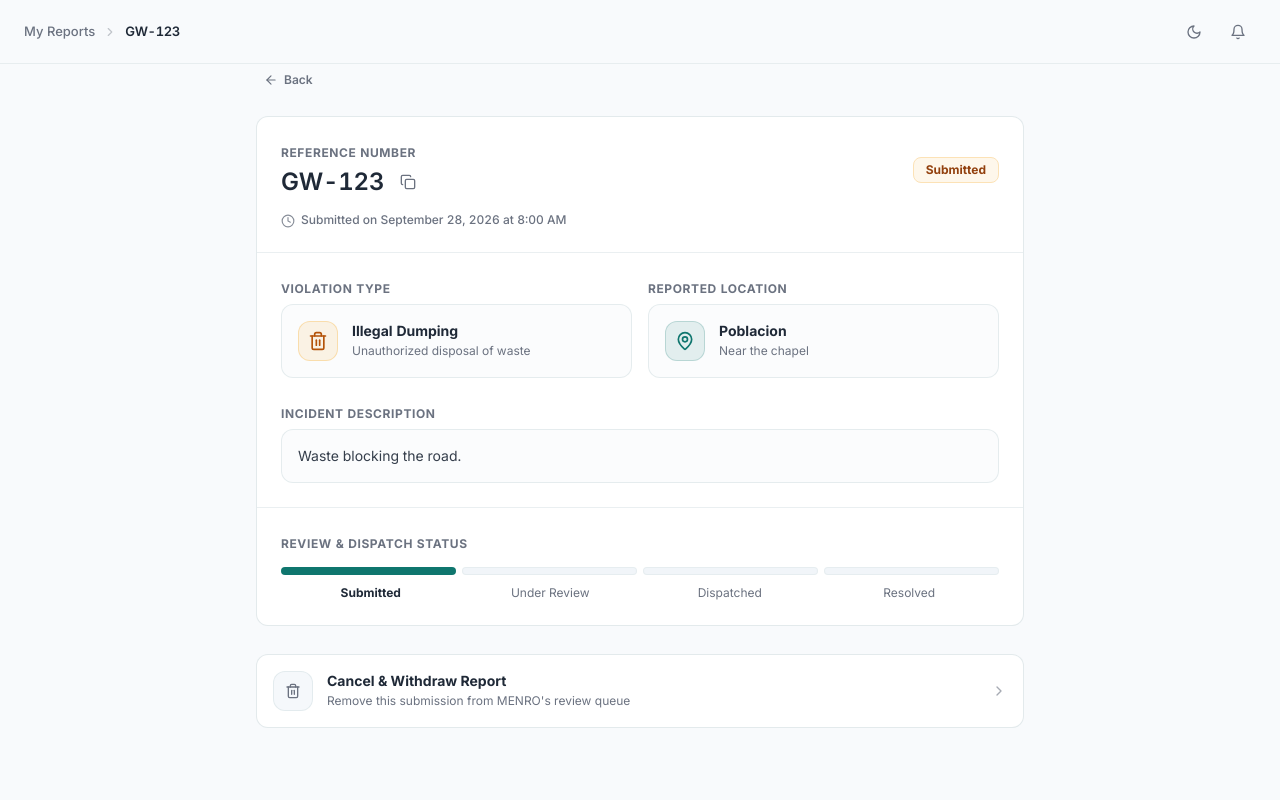
returns with the shared Back button and preserves the report list filter
Click the button with aria-label "Back to My Reports" at {"x": 288, "y": 80}, box [256,64,321,96]
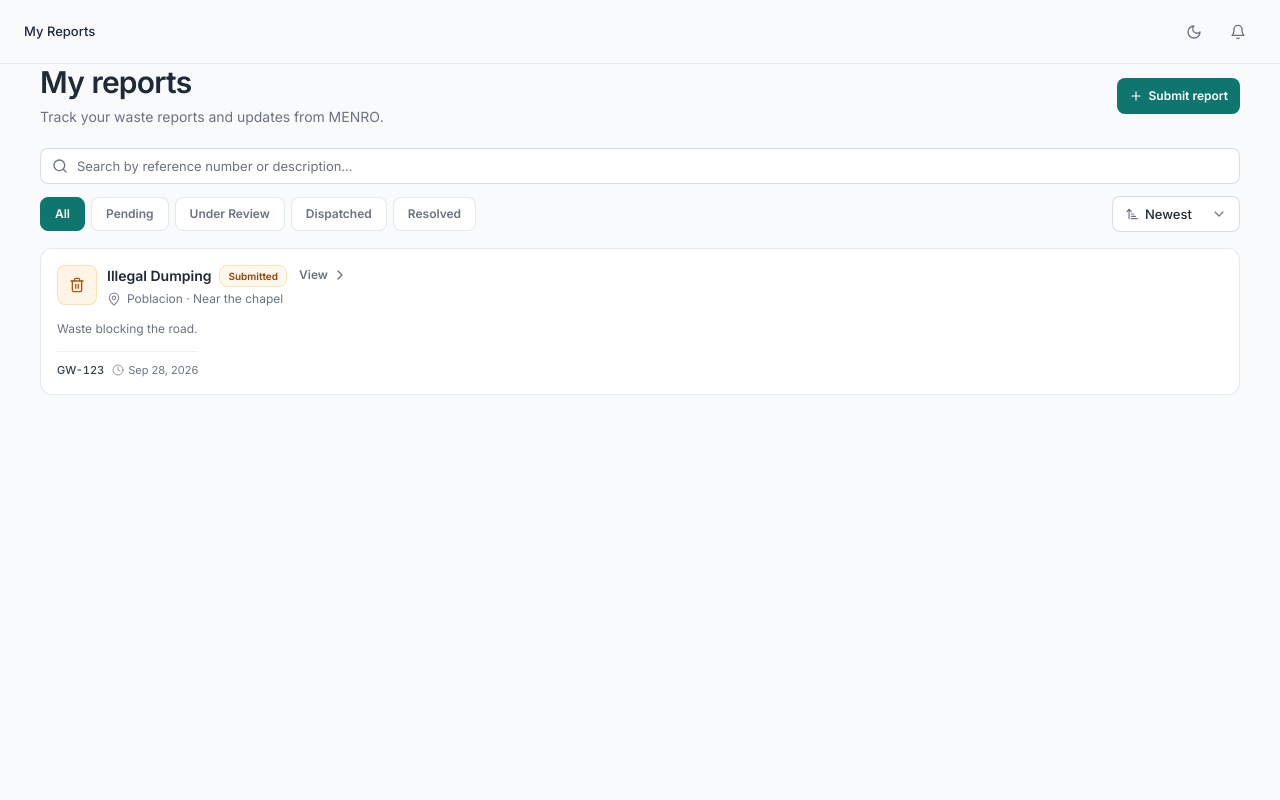
Click the button "Pending" at {"x": 130, "y": 214}, box [91,197,169,231]
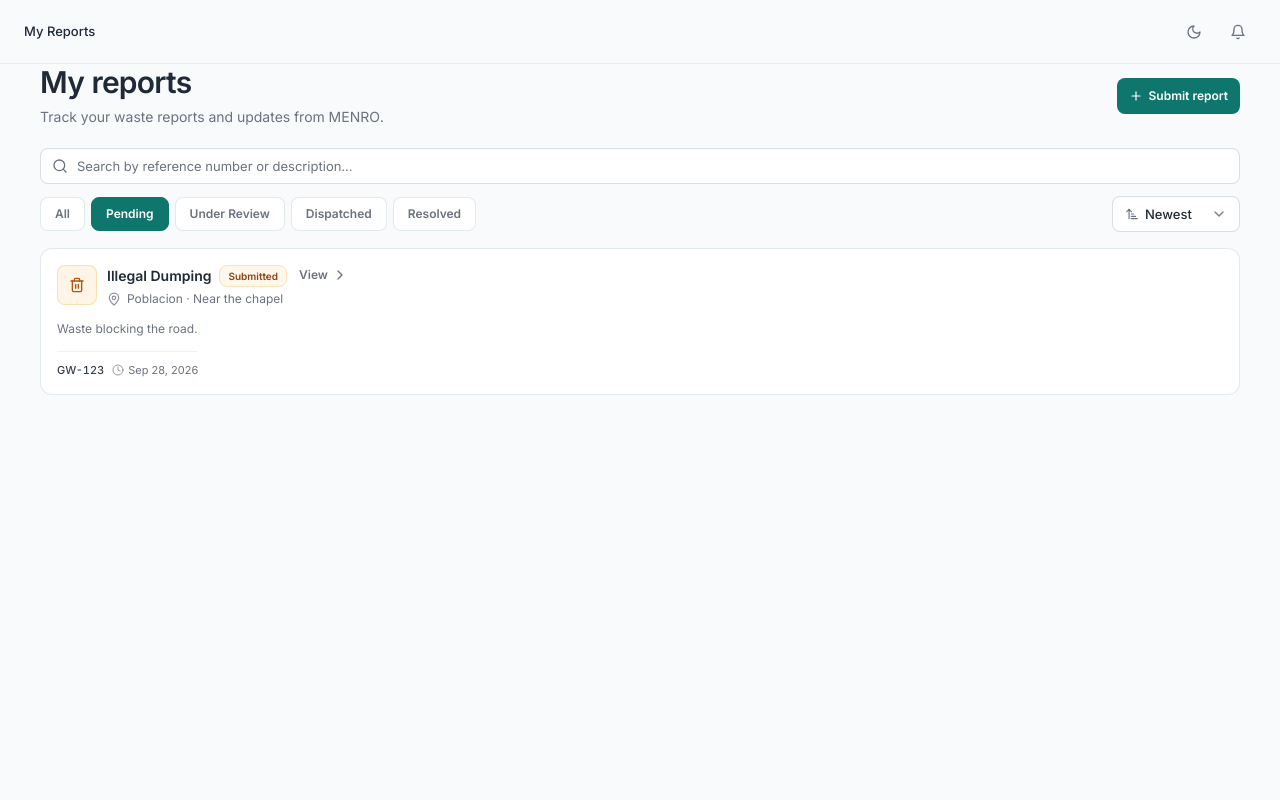
Click the button with aria-label "View report GW-123" at {"x": 640, "y": 322}, box [40,248,1240,395]
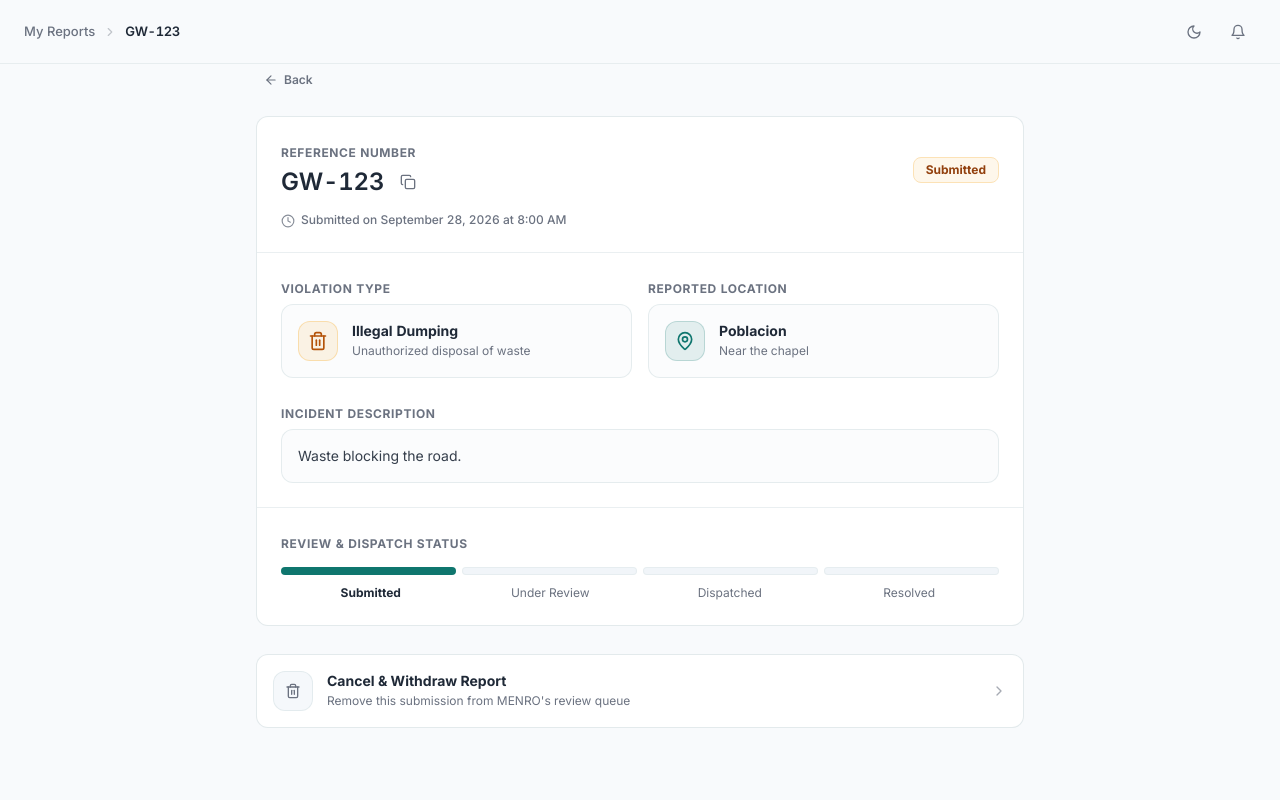
Now the text "GW-123" is shown, box [125,22,180,41]
Click the button with aria-label "Back to My Reports" at {"x": 288, "y": 80}, box [256,64,321,96]
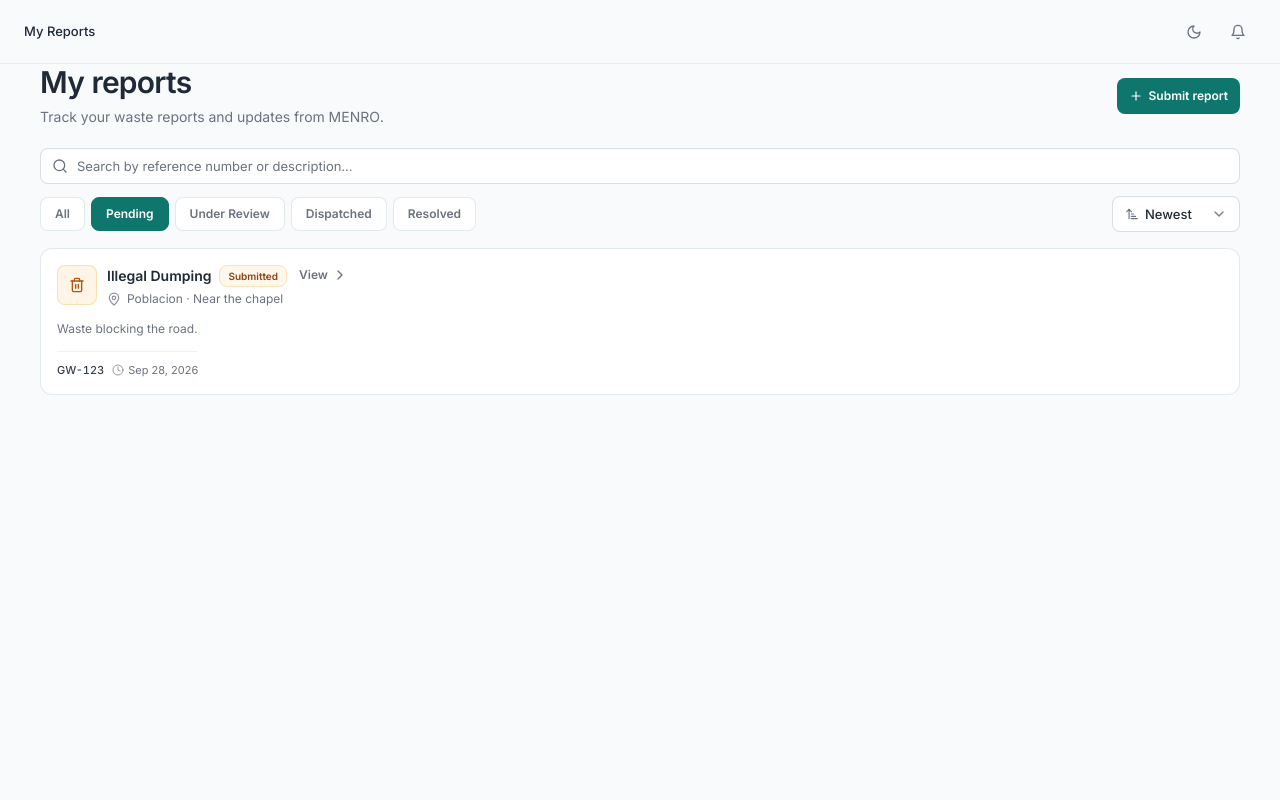
Now the heading "My reports" is shown, box [40,64,191,102]
Now the button "Pending" is shown, box [91,197,169,231]
